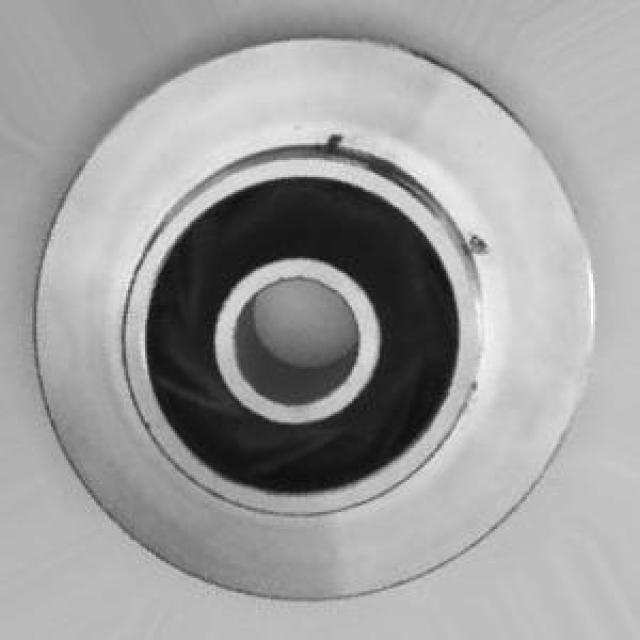Defect: (462, 222, 490, 270)
